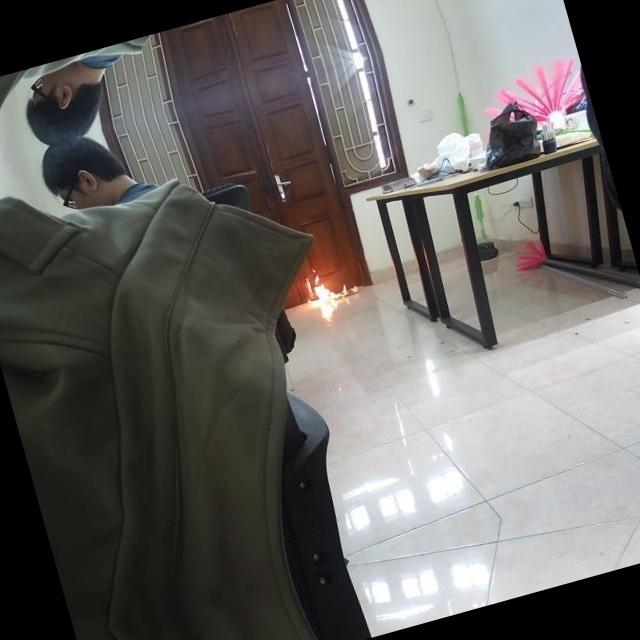fire: (286, 250, 368, 342)
